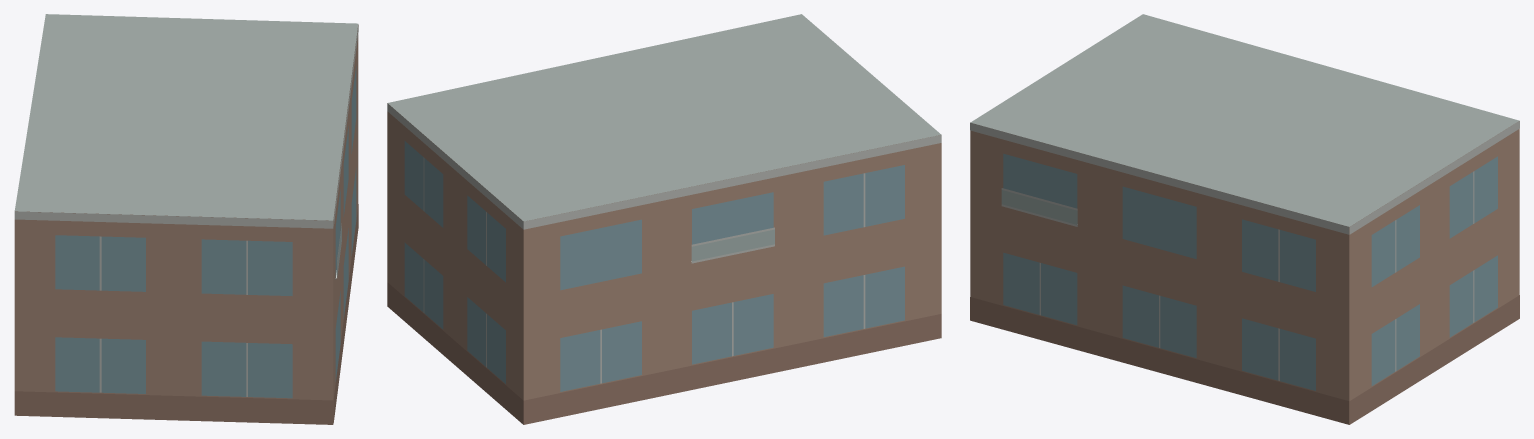
Rendered from survey-upis-32893183.glb.
3 renders of one model, left to right at view 1: azimuth 30°, elevation 25°; view 2: azimuth 150°, elevation 25°; view 3: azimuth 270°, elevation 25°, orthographic. The views are drawn at different scales.
Visible parts, largest first — view 1: survey-upis-32893183.tmp; view 2: survey-upis-32893183.tmp; view 3: survey-upis-32893183.tmp.
Boxes of the visible parts, x1,y1,x2,y2 form: survey-upis-32893183.tmp: (14,14,358,424); survey-upis-32893183.tmp: (387,14,941,424); survey-upis-32893183.tmp: (970,14,1519,424).
Bounding box in the file's own units: 14.08 × 6.1 × 15.36.
